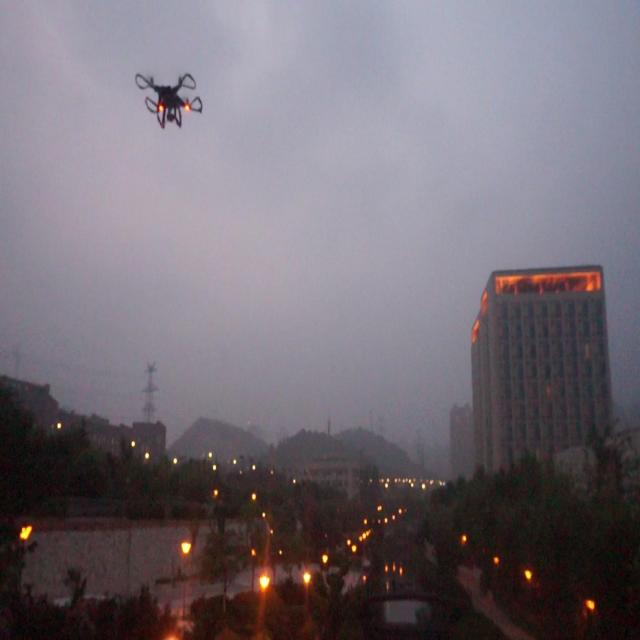UAV: (136, 72, 202, 131)
